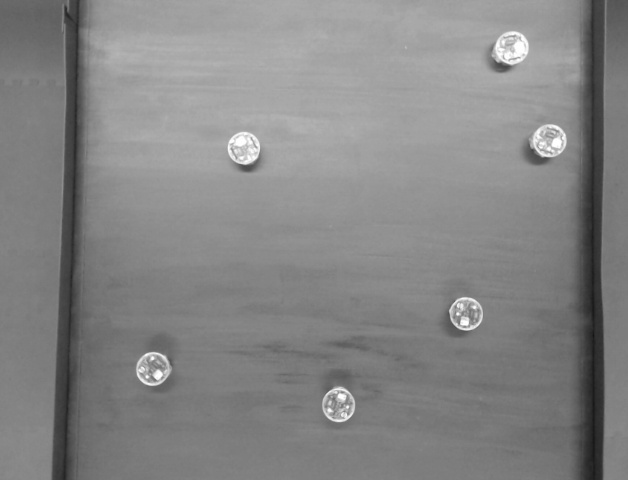epuck_2: (124, 340, 184, 398), (308, 380, 372, 431), (440, 289, 490, 343), (485, 25, 535, 78), (521, 119, 575, 168), (219, 122, 271, 168)
